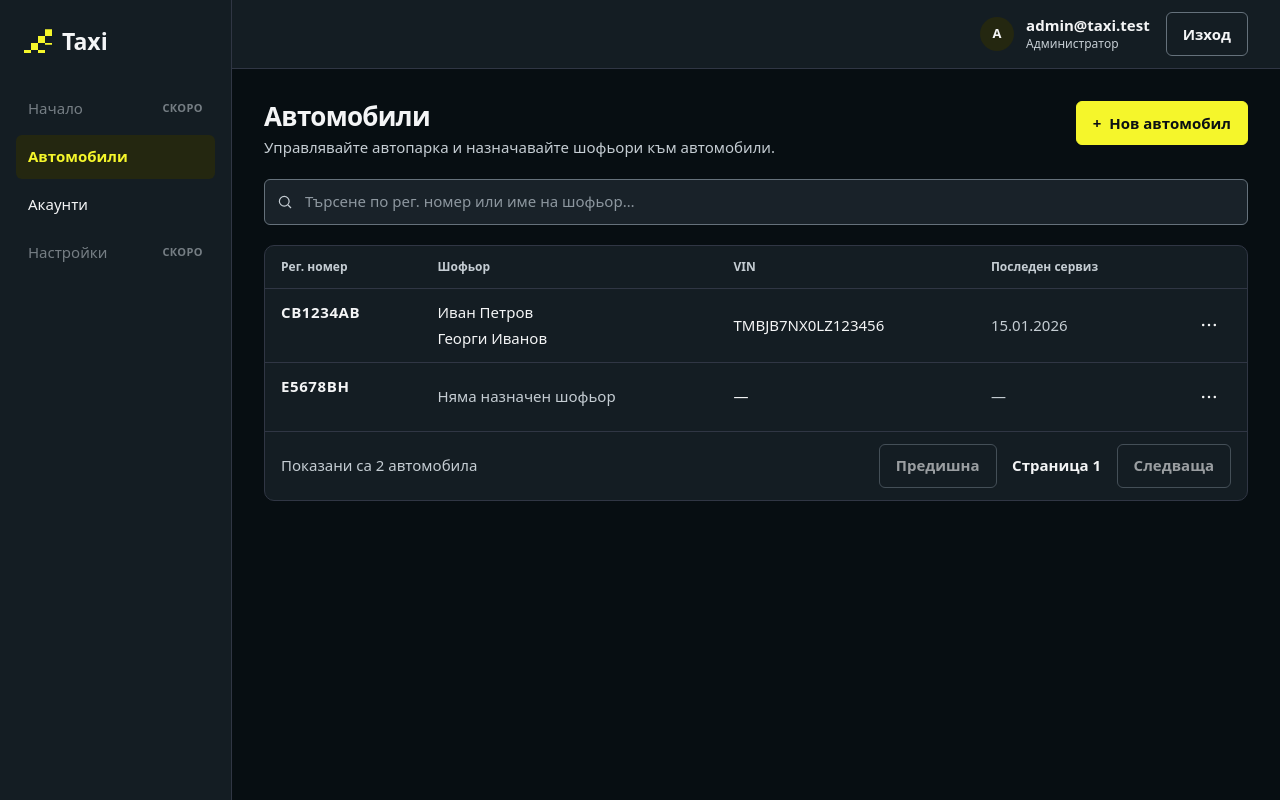
it: CarsPage (mocked car port, not live integration) › keeps the dialog open and explains a rejected save
This screenshot has width=1280, height=800.
What coordinates should you click on to do the following:
click the button named "Действия за CB1234AB"
I would click on:
 (1209, 325)
Its box is x1=1187 y1=303 x2=1231 y2=347.
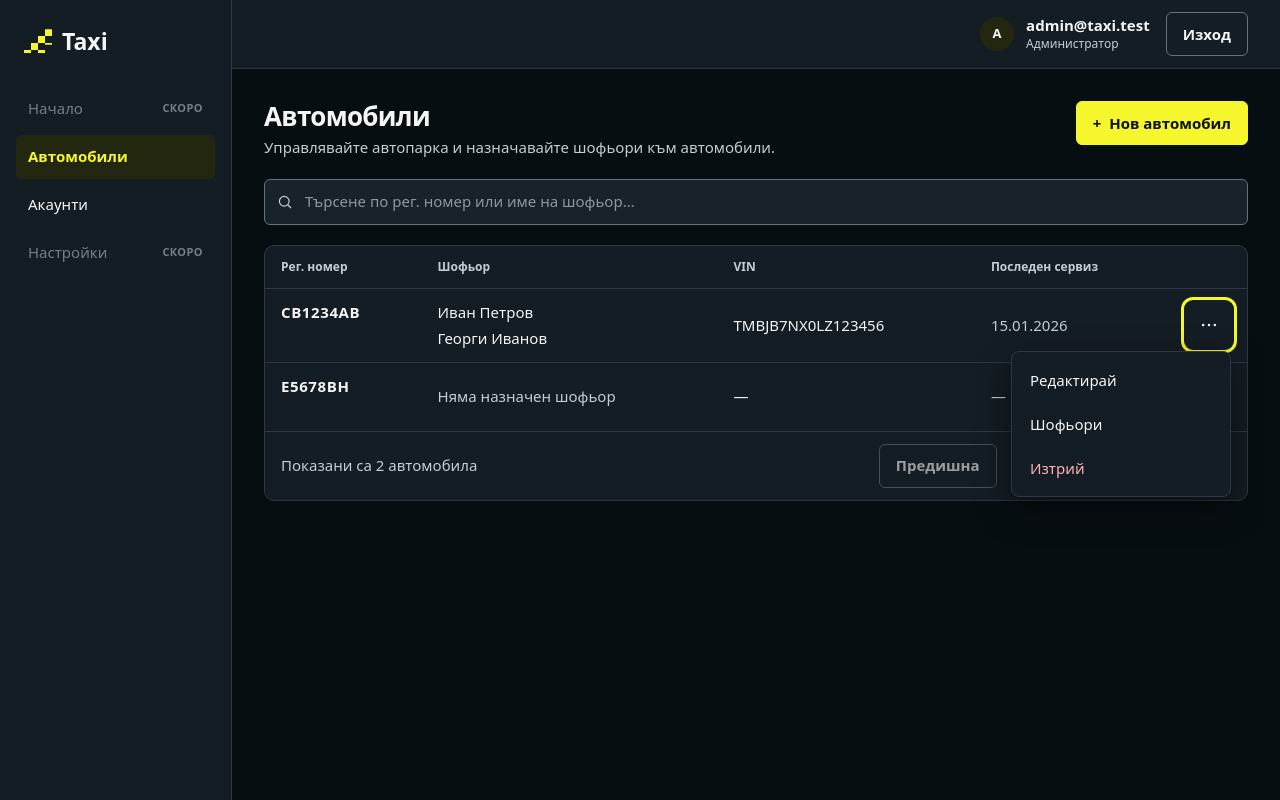
What coordinates should you click on to do the following:
click the menu item "Редактирай"
I would click on:
 (1121, 380)
Its box is x1=1018 y1=358 x2=1224 y2=402.
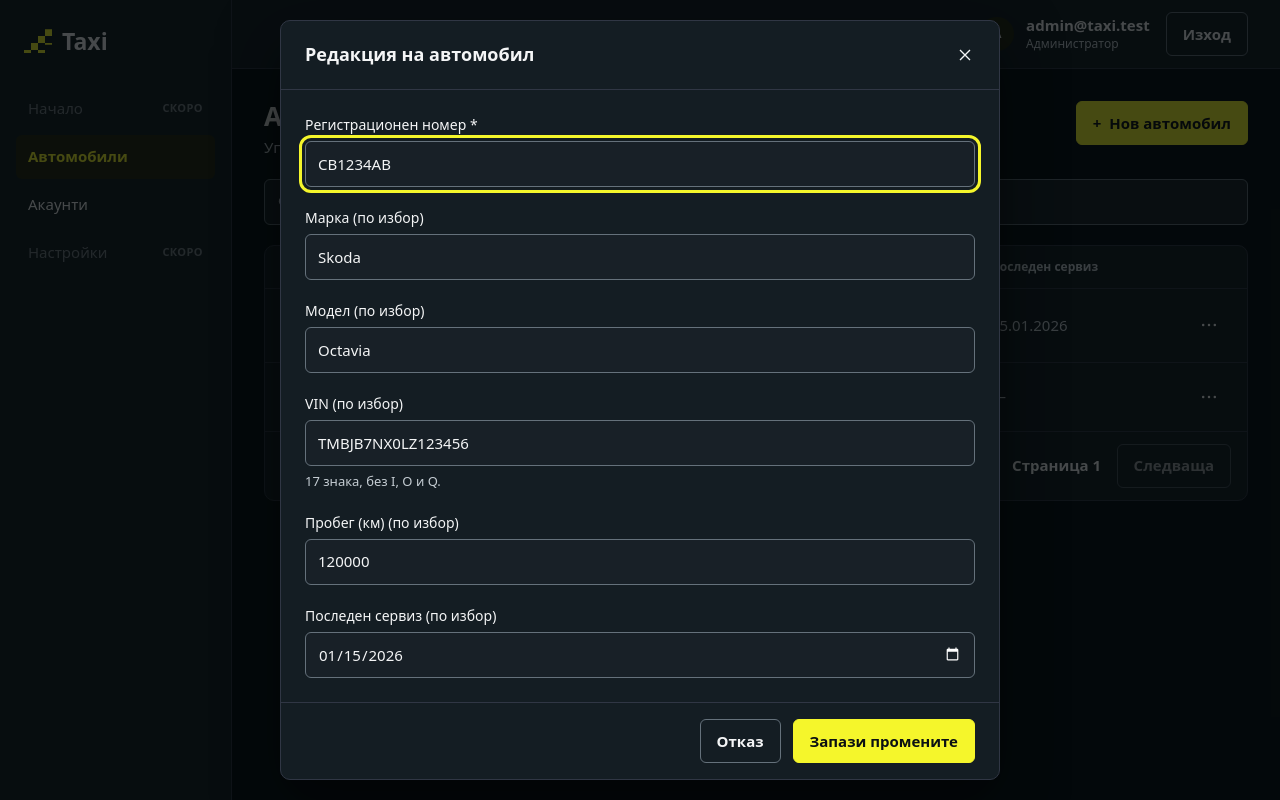
What coordinates should you click on to do the following:
click the button "Запази промените"
I would click on:
 (884, 741)
Its box is x1=792 y1=719 x2=975 y2=763.
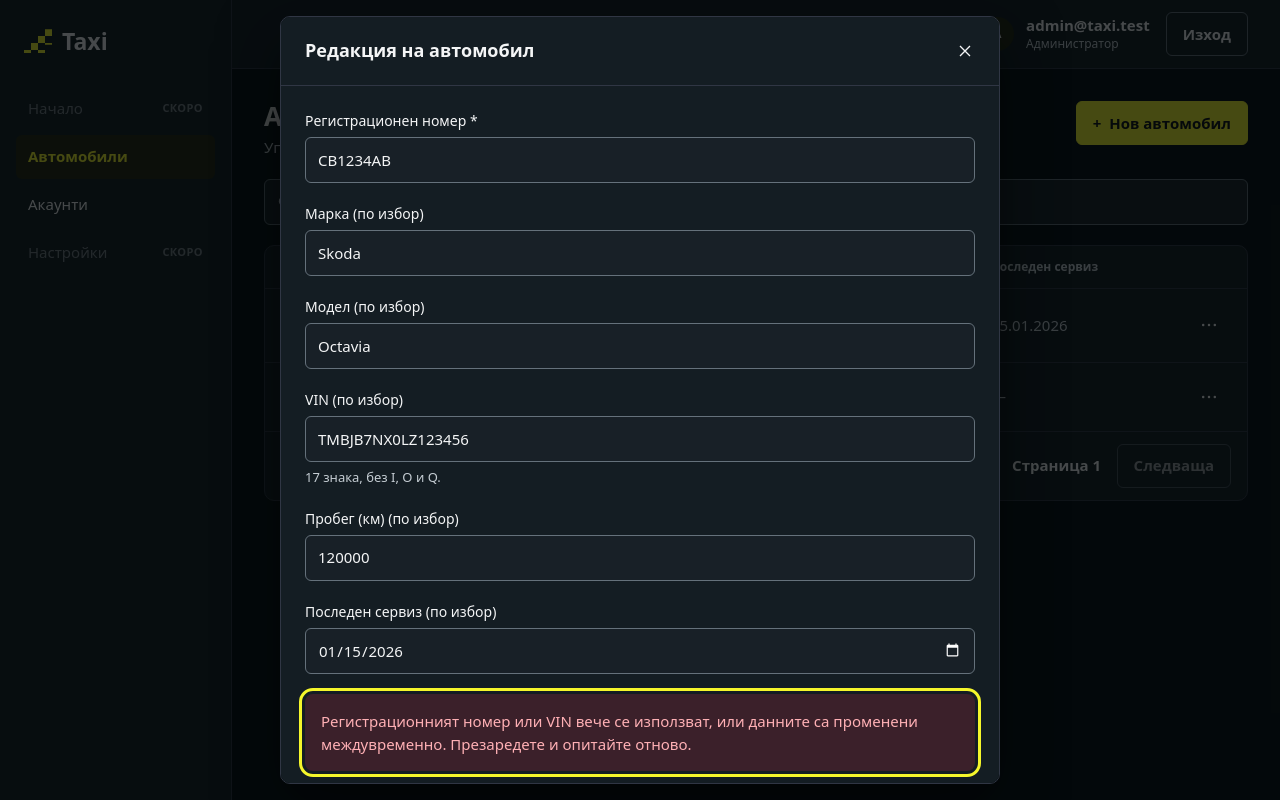
Check: the dialog "Редакция на автомобил" is shown, box x1=280 y1=16 x2=1000 y2=784
Check: the message shows "Регистрационният номер или VIN вече се използват, или данните са променени междувременно. Презаредете и опитайте отново.", box x1=321 y1=711 x2=918 y2=754
